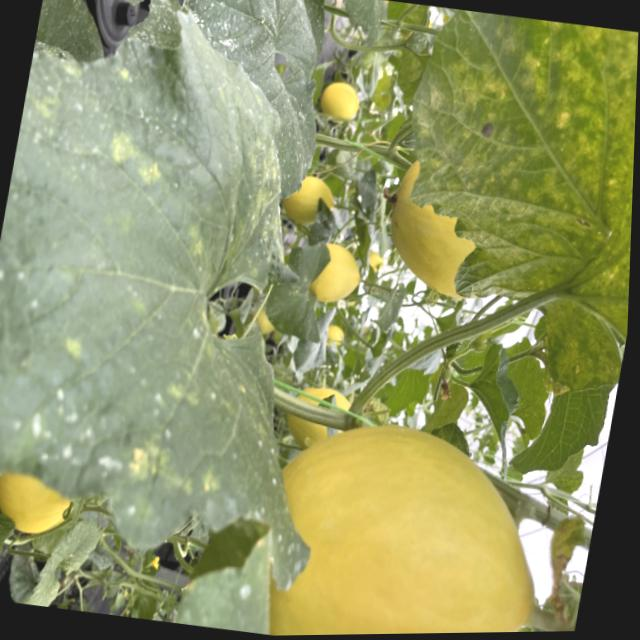CMV: (360, 3, 640, 403)
downy mildew: (0, 0, 408, 607), (18, 515, 101, 613), (0, 393, 16, 598)
powdery mildew: (139, 0, 349, 211)
